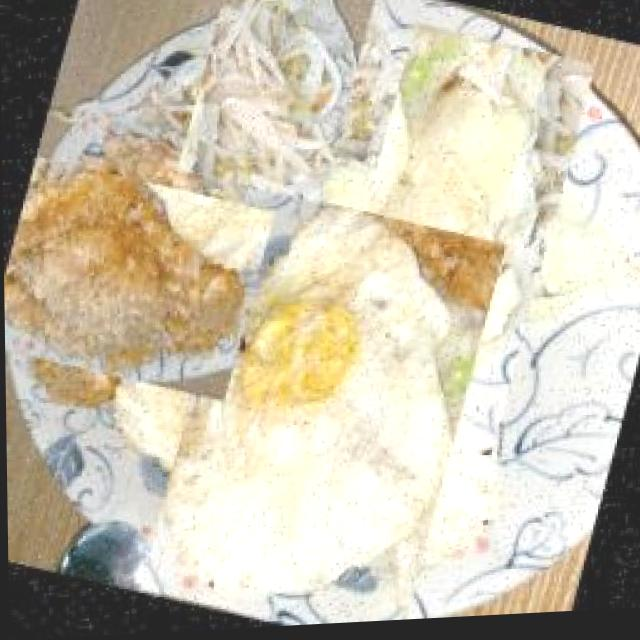chinese_cabbage: (269, 54, 636, 434)
fried_chicken: (2, 124, 263, 428)
fried_eggs: (108, 198, 535, 636)
mung_bean_sprouts: (162, 0, 392, 201)
